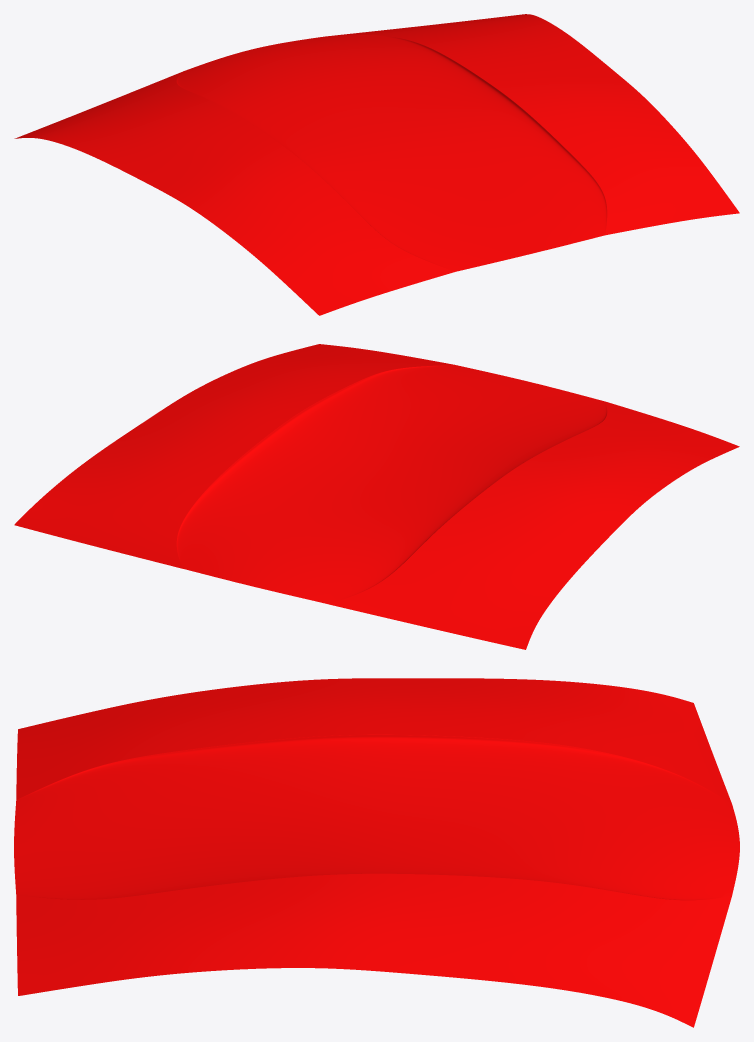
File: MK5roof.glb
The picture shows the model from 3 angles, top to bottom: view 1: azimuth 30°, elevation 25°; view 2: azimuth 150°, elevation 25°; view 3: azimuth 270°, elevation 25°; orthographic projection. The views are drawn at different scales.
Parts seen in each view (by area): view 1: Object_38; view 2: Object_38; view 3: Object_38.
Boxes of the visible parts, bbox=[...] form: Object_38: bbox=[14, 14, 739, 315]; Object_38: bbox=[14, 344, 739, 649]; Object_38: bbox=[14, 678, 739, 1027].
Bounding box in the file's own units: 0.7528 × 0.0661 × 0.711.
